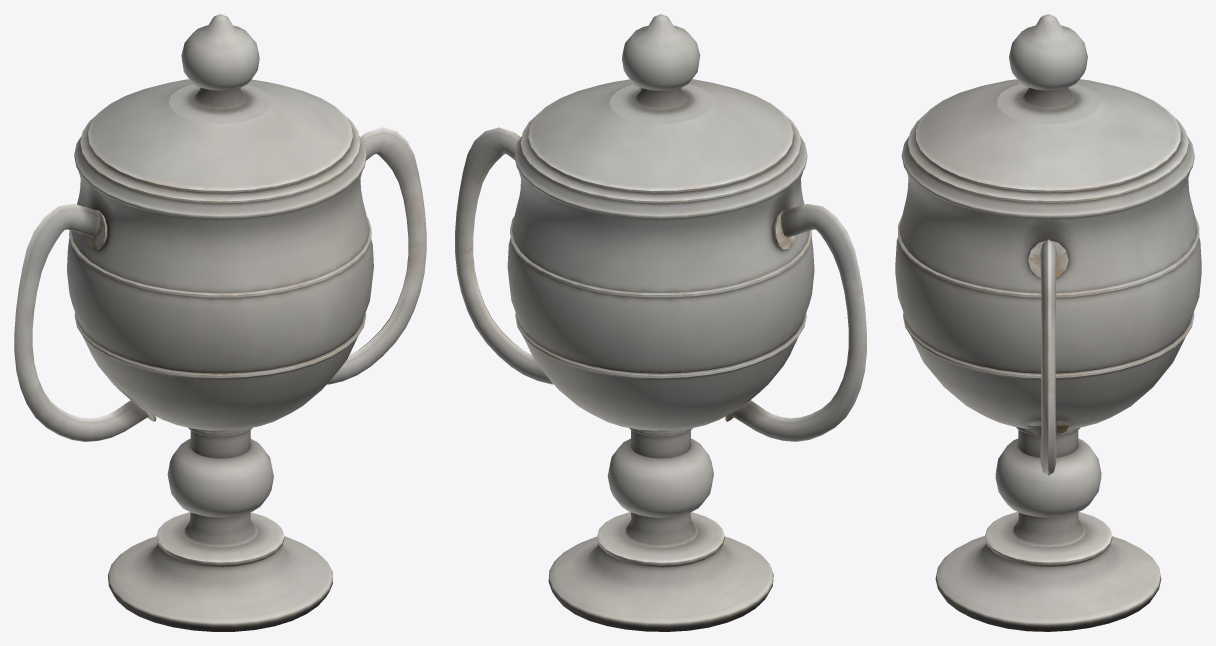
Rendered from trophy-cup-tall.glb.
The picture shows the model from 3 angles, left to right: view 1: azimuth 30°, elevation 25°; view 2: azimuth 150°, elevation 25°; view 3: azimuth 270°, elevation 25°; orthographic projection.
Visible parts, largest first — view 1: cup; view 2: cup; view 3: cup.
Boxes of the visible parts, box(x1,y1,x2,y2) form: cup: box(14, 14, 426, 631); cup: box(455, 14, 866, 631); cup: box(895, 14, 1201, 631).
Size of the model in its own units: 0.2345 by 0.3116 by 0.151.
Materials: 1 (1 with a texture image).
